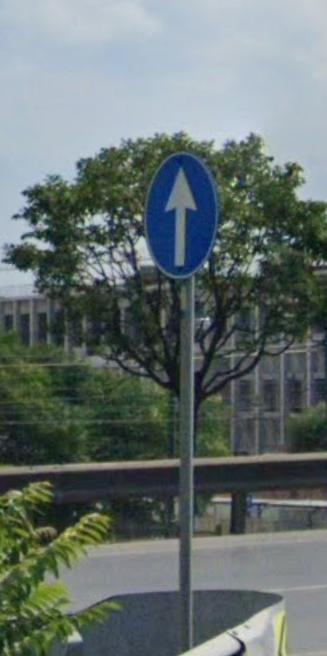forward: (148, 156, 218, 274)
